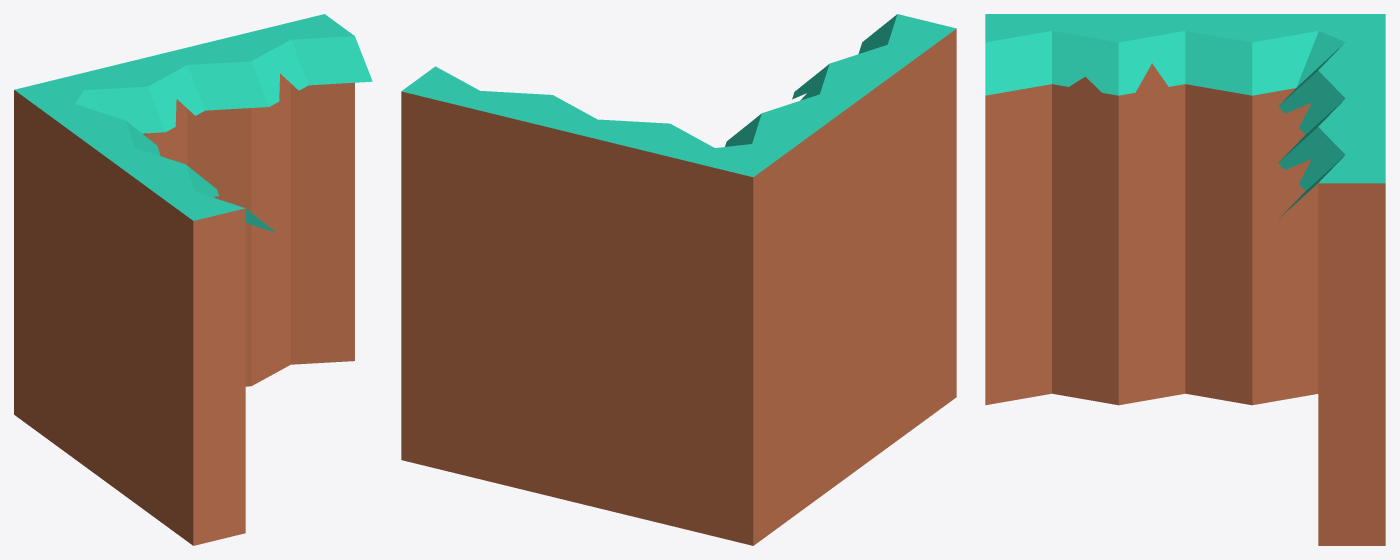
File: cliff_cornerInnerTop_rock.dae
3 views of the same model, side by side, from view 1: azimuth 30°, elevation 25°; view 2: azimuth 150°, elevation 25°; view 3: azimuth 270°, elevation 25° (orthographic). The views are drawn at different scales.
Parts seen in each view (by area): view 1: cliff_cornerInnerTop_rock; view 2: cliff_cornerInnerTop_rock; view 3: cliff_cornerInnerTop_rock.
Part boxes in pixels (x1,y1,x2,y2): cliff_cornerInnerTop_rock: [14, 14, 372, 545]; cliff_cornerInnerTop_rock: [401, 14, 956, 545]; cliff_cornerInnerTop_rock: [985, 14, 1385, 545].
Bounding box in the file's own units: 1 × 1 × 1.
